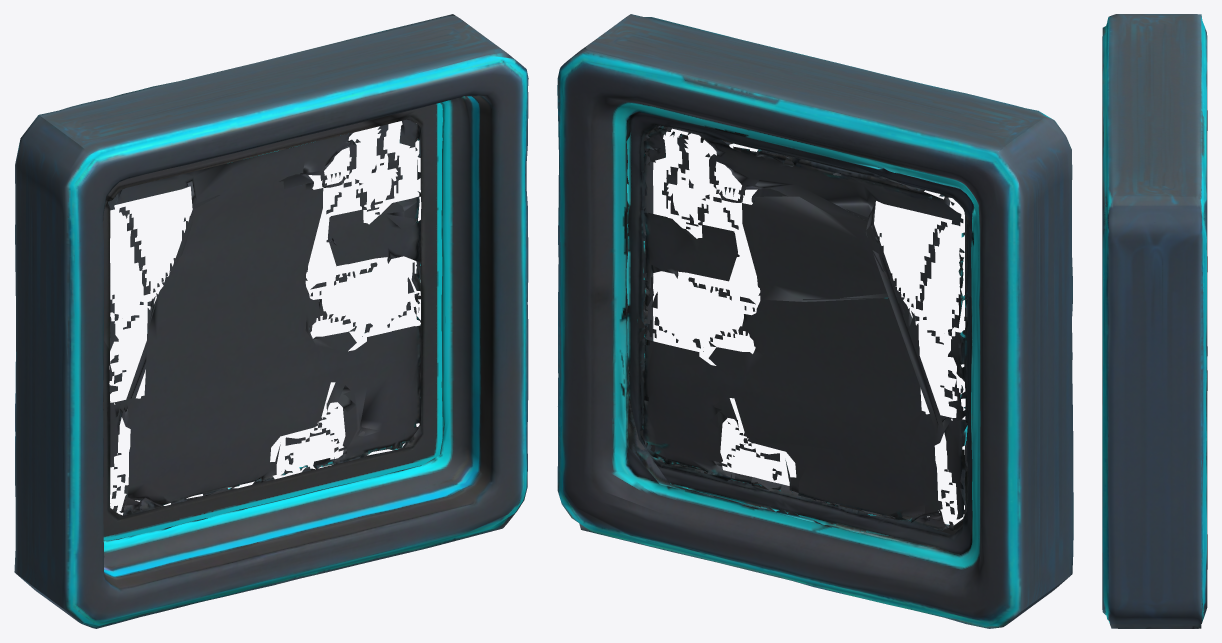
The model's file is Neon_Wall_Tile_0926195821_texture.fbx.
The picture shows the model from 3 angles, left to right: view 1: azimuth 30°, elevation 25°; view 2: azimuth 150°, elevation 25°; view 3: azimuth 270°, elevation 25°; orthographic projection. The views are drawn at different scales.
Visible parts, largest first — view 1: Mesh0; view 2: Mesh0; view 3: Mesh0.
Boxes of the visible parts, x1,y1,x2,y2 form: Mesh0: (14,14,528,628); Mesh0: (557,14,1073,628); Mesh0: (1102,14,1207,628).
Bounding box in the file's own units: 191 × 189 × 41.69.
Materials: 1 (1 with a texture image).
